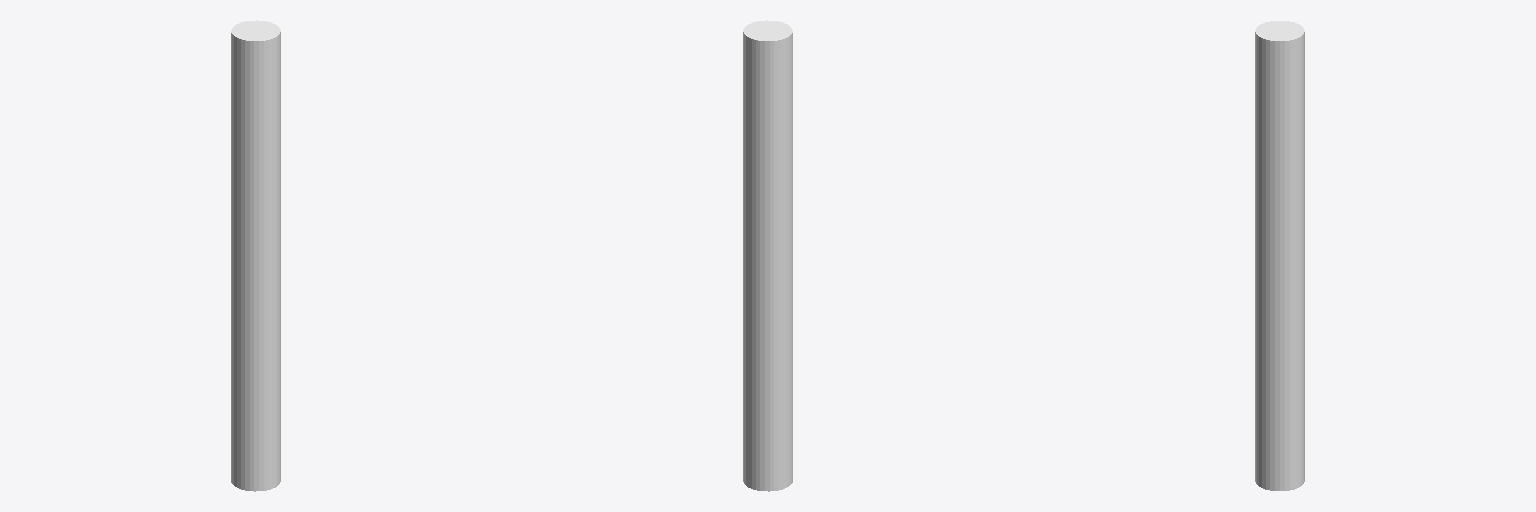
URDF robot description (lbr_iiwa):
<?xml version="1.0" ?>
<!-- ======================================================================= -->
<!-- | This document was autogenerated by xacro from lbr_iiwa.urdf.xacro   | -->
<!-- | Original xacro: https://github.com/rtkg/lbr_iiwa/archive/master.zip | -->
<!-- | EDITING THIS FILE BY HAND IS NOT RECOMMENDED                        | -->
<!-- | Changes ([author]):                                                 | -->
<!-- |   * Removed gazebo tags.                                            | -->
<!-- |   * Removed unused materials.                                       | -->
<!-- |   * Made mesh paths relative.                                       | -->
<!-- |   * Removed material fields from collision segments.                | -->
<!-- |   * Removed the self_collision_checking segment.                    | -->
<!-- |   * Removed transmission segments, since they didn't match the      | -->
<!-- |     convention, will have to added back later.                      | -->
<!-- ======================================================================= -->
<!--LICENSE:                                                                 -->
<!--Copyright (c) 2015, [author] & [author], AASS Research Center,  -->
<!--Orebro University, Sweden                                                -->
<!--All rights reserved.                                                     -->
<!--                                                                         -->
<!--Redistribution and use in source and binary forms, with or without       -->
<!--modification, are permitted provided that the following conditions are   -->
<!--met:                                                                     -->
<!--                                                                         -->
<!--1. Redistributions of source code must retain the above copyright notice,-->
<!--   this list of conditions and the following disclaimer.                 -->
<!--                                                                         -->
<!--2. Redistributions in binary form must reproduce the above copyright     -->
<!--   notice, this list of conditions and the following disclaimer in the   -->
<!--   documentation and/or other materials provided with the distribution.  -->
<!--                                                                         -->
<!--THIS SOFTWARE IS PROVIDED BY THE COPYRIGHT [author] "AS  -->
<!--IS" AND ANY EXPRESS OR IMPLIED WARRANTIES, INCLUDING, BUT NOT LIMITED TO,-->
<!--THE IMPLIED WARRANTIES OF MERCHANTABILITY AND FITNESS FOR A PARTICULAR   -->
<!--PURPOSE ARE DISCLAIMED. IN NO EVENT SHALL THE COPYRIGHT [author]        -->
<!--CONTRIBUTORS BE LIABLE FOR ANY DIRECT, INDIRECT, INCIDENTAL, SPECIAL,    -->
<!--EXEMPLARY, OR CONSEQUENTIAL DAMAGES (INCLUDING, BUT NOT LIMITED TO,      -->
<!--PROCUREMENT OF SUBSTITUTE GOODS OR SERVICES; LOSS OF USE, DATA, OR       -->
<!--PROFITS; OR BUSINESS INTERRUPTION) HOWEVER CAUSED AND ON ANY THEORY OF   -->
<!--LIABILITY, WHETHER IN CONTRACT, STRICT LIABILITY, OR TORT (INCLUDING     -->
<!--NEGLIGENCE OR OTHERWISE) ARISING IN ANY WAY OUT OF THE USE OF THIS       -->
<!--SOFTWARE, EVEN IF ADVISED OF THE POSSIBILITY OF SUCH DAMAGE.             -->
<robot name="lbr_iiwa" xmlns:xacro="http://www.ros.org/wiki/xacro">
  <!-- Import Rviz colors -->
  <material name="Grey">
    <color rgba="0.2 0.2 0.2 1.0"/>
  </material>
  <material name="Orange">
    <color rgba="1.0 0.423529411765 0.0392156862745 1.0"/>
  </material>
  <material name="Blue">
  <color rgba="0.5 0.7 1.0 1.0"/>      
</material>

  <!--Import the lbr iiwa macro -->
  <!--Import Transmissions -->
  <!--Include Utilities -->
  <!--The following macros are adapted from the LWR 4 definitions of the RCPRG - https://github.com/RCPRG-ros-pkg/lwr_robot -->
  <!--Little helper macros to define the inertia matrix needed for links.-->
  <!--Cuboid-->
  <!--Cylinder: length is along the y-axis! -->
  <!--lbr-->
  <link name="lbr_iiwa_link_0">
    <inertial>
      <origin rpy="0 0 0" xyz="-0.1 0 0.07"/>
      <!--Increase mass from 5 Kg original to provide a stable base to carry the
          arm.-->
      <mass value="0.0"/>
      <!-- <mass value="5.0"/> -->
      <inertia ixx="0.05" ixy="0" ixz="0" iyy="0.06" iyz="0" izz="0.03"/>
    </inertial>
    <visual>
      <origin rpy="0 0 0" xyz="0 0 0"/>
      <geometry>
        <mesh filename="meshes/link_0.obj"/>
      </geometry>
      <material name="Grey"/>
    </visual>
    <collision>
      <origin rpy="0 0 0" xyz="0 0 0"/>
      <geometry>
        <mesh filename="meshes/link_0.stl"/>
      </geometry>
    </collision>
  </link>
  <!-- joint between link_0 and link_1 -->
  <joint name="lbr_iiwa_joint_1" type="revolute">
    <parent link="lbr_iiwa_link_0"/>
    <child link="lbr_iiwa_link_1"/>
    <origin rpy="0 0 0" xyz="0 0 0.1575"/>
    <axis xyz="0 0 1"/>
    <limit effort="1000" lower="-2.96705972839" upper="2.96705972839" velocity="10"/>
    <dynamics damping="0.5"/>
  </joint>
  <link name="lbr_iiwa_link_1">
    <inertial>
      <origin rpy="0 0 0" xyz="0 -0.03 0.12"/>
      <mass value="4"/>
      <inertia ixx="0.1" ixy="0" ixz="0" iyy="0.09" iyz="0" izz="0.02"/>
    </inertial>
    <visual>
      <origin rpy="0 0 0" xyz="0 0 0"/>
      <geometry>
        <mesh filename="meshes/link_1.obj"/>
      </geometry>
      <material name="Blue"/>
    </visual>
    <collision>
      <origin rpy="0 0 0" xyz="0 0 0"/>
      <geometry>
        <mesh filename="meshes/link_1.stl"/>
      </geometry>
    </collision>
  </link>
  <!-- joint between link_1 and link_2 -->
  <joint name="lbr_iiwa_joint_2" type="revolute">
    <parent link="lbr_iiwa_link_1"/>
    <child link="lbr_iiwa_link_2"/>
    <origin rpy="1.57079632679   0 3.14159265359" xyz="0 0 0.2025"/>
    <axis xyz="0 0 1"/>
    <limit effort="1000" lower="-2.09439510239" upper="2.09439510239" velocity="10"/>
    <dynamics damping="0.5"/>
  </joint>
  <link name="lbr_iiwa_link_2">
    <inertial>
      <origin rpy="0 0 0" xyz="0.0003 0.059 0.042"/>
      <mass value="4"/>
      <inertia ixx="0.05" ixy="0" ixz="0" iyy="0.018" iyz="0" izz="0.044"/>
    </inertial>
    <visual>
      <origin rpy="0 0 0" xyz="0 0 0"/>
      <geometry>
        <mesh filename="meshes/link_2.obj"/>
      </geometry>
      <material name="Blue"/>
    </visual>
    <collision>
      <origin rpy="0 0 0" xyz="0 0 0"/>
      <geometry>
        <mesh filename="meshes/link_2.stl"/>
      </geometry>
    </collision>
  </link>
  <!-- joint between link_2 and link_3 -->
  <joint name="lbr_iiwa_joint_3" type="revolute">
    <parent link="lbr_iiwa_link_2"/>
    <child link="lbr_iiwa_link_3"/>
    <origin rpy="1.57079632679 0 3.14159265359" xyz="0 0.2045 0"/>
    <axis xyz="0 0 1"/>
    <limit effort="1000" lower="-2.96705972839" upper="2.96705972839" velocity="10"/>
    <dynamics damping="0.5"/>
  </joint>
  <link name="lbr_iiwa_link_3">
    <inertial>
      <origin rpy="0 0 0" xyz="0 0.03 0.13"/>
      <mass value="3"/>
      <inertia ixx="0.08" ixy="0" ixz="0" iyy="0.075" iyz="0" izz="0.01"/>
    </inertial>
    <visual>
      <origin rpy="0 0 0" xyz="0 0 0"/>
      <geometry>
        <mesh filename="meshes/link_3.obj"/>
      </geometry>
      <material name="Orange"/>
    </visual>
    <collision>
      <origin rpy="0 0 0" xyz="0 0 0"/>
      <geometry>
        <mesh filename="meshes/link_3.stl"/>
      </geometry>
    </collision>
  </link>
  <!-- joint between link_3 and link_4 -->
  <joint name="lbr_iiwa_joint_4" type="revolute">
    <parent link="lbr_iiwa_link_3"/>
    <child link="lbr_iiwa_link_4"/>
    <origin rpy="1.57079632679 0 0" xyz="0 0 0.2155"/>
    <axis xyz="0 0 1"/>
    <limit effort="1000" lower="-2.09439510239" upper="2.09439510239" velocity="10"/>
    <dynamics damping="0.5"/>
  </joint>
  <link name="lbr_iiwa_link_4">
    <inertial>
      <origin rpy="0 0 0" xyz="0 0.067 0.034"/>
      <mass value="2.7"/>
      <inertia ixx="0.03" ixy="0" ixz="0" iyy="0.01" iyz="0" izz="0.029"/>
    </inertial>
    <visual>
      <origin rpy="0 0 0" xyz="0 0 0"/>
      <geometry>
        <mesh filename="meshes/link_4.obj"/>
      </geometry>
      <material name="Blue"/>
    </visual>
    <collision>
      <origin rpy="0 0 0" xyz="0 0 0"/>
      <geometry>
        <mesh filename="meshes/link_4.stl"/>
      </geometry>
    </collision>
  </link>
  <!-- joint between link_4 and link_5 -->
  <joint name="lbr_iiwa_joint_5" type="revolute">
    <parent link="lbr_iiwa_link_4"/>
    <child link="lbr_iiwa_link_5"/>
    <origin rpy="-1.57079632679 3.14159265359 0" xyz="0 0.1845 0"/>
    <axis xyz="0 0 1"/>
    <limit effort="1000" lower="-2.96705972839" upper="2.96705972839" velocity="10"/>
    <dynamics damping="0.5"/>
  </joint>
  <link name="lbr_iiwa_link_5">
    <inertial>
      <origin rpy="0 0 0" xyz="0.0001 0.021 0.076"/>
      <mass value="1.7"/>
      <inertia ixx="0.02" ixy="0" ixz="0" iyy="0.018" iyz="0" izz="0.005"/>
    </inertial>
    <visual>
      <origin rpy="0 0 0" xyz="0 0 0"/>
      <geometry>
        <mesh filename="meshes/link_5.obj"/>
      </geometry>
      <material name="Blue"/>
    </visual>
    <collision>
      <origin rpy="0 0 0" xyz="0 0 0"/>
      <geometry>
        <mesh filename="meshes/link_5.stl"/>
      </geometry>
    </collision>
  </link>
  <!-- joint between link_5 and link_6 -->
  <joint name="lbr_iiwa_joint_6" type="revolute">
    <parent link="lbr_iiwa_link_5"/>
    <child link="lbr_iiwa_link_6"/>
    <origin rpy="1.57079632679 0 0" xyz="0 0 0.2155"/>
    <axis xyz="0 0 1"/>
    <limit effort="1000" lower="-2.09439510239" upper="2.09439510239" velocity="10"/>
    <dynamics damping="0.5"/>
  </joint>
  <link name="lbr_iiwa_link_6">
    <inertial>
      <origin rpy="0 0 0" xyz="0 0.0006 0.0004"/>
      <mass value="1.8"/>
      <inertia ixx="0.005" ixy="0" ixz="0" iyy="0.0036" iyz="0" izz="0.0047"/>
    </inertial>
    <visual>
      <origin rpy="0 0 0" xyz="0 0 0"/>
      <geometry>
        <mesh filename="meshes/link_6.obj"/>
      </geometry>
      <material name="Orange"/>
    </visual>
    <collision>
      <origin rpy="0 0 0" xyz="0 0 0"/>
      <geometry>
        <mesh filename="meshes/link_6.stl"/>
      </geometry>
    </collision>
  </link>
  <!-- joint between link_6 and link_7 -->
  <joint name="lbr_iiwa_joint_7" type="revolute">
    <parent link="lbr_iiwa_link_6"/>
    <child link="lbr_iiwa_link_7"/>
    <origin rpy="-1.57079632679 3.14159265359 0" xyz="0 0.081 0"/>
    <axis xyz="0 0 1"/>
    <limit effort="1000" lower="-3.05432619099" upper="3.05432619099" velocity="10"/>
    <dynamics damping="0.5" friction="1.0"/>
  </joint>
  <link name="lbr_iiwa_link_7">
    <inertial>
      <origin rpy="0 0 0" xyz="0 0 0.02"/>
      <!-- <mass value="0.3"/> -->
      <mass value="1.0"/>
      <inertia ixx="0.001" ixy="0" ixz="0" iyy="0.001" iyz="0" izz="0.001"/>
    </inertial>
    <visual>
      <origin rpy="0 0 0" xyz="0 0 0"/>
      <geometry>
        <mesh filename="meshes/link_7.obj"/>
      </geometry>
      <material name="Grey"/>
    </visual>
    <collision>
      <origin rpy="0 0 0" xyz="0 0 0"/>
      <geometry>
        <mesh filename="meshes/link_7.stl"/>
      </geometry>
    </collision>
  </link>

<joint name="joint_to_bar" type="fixed">
    <parent link="lbr_iiwa_link_7"/>
    <child link="bat"/>
    <origin rpy="0 0 0" xyz="0 0 0.2"/>
  </joint>
<link name="bat">
    <visual>
      <geometry>
        <!-- <box size="0.05 0.2 .4"/> -->
	<cylinder radius=".02" length=".4"/>	
      </geometry>
      <origin rpy="0 0 0" xyz="0 0 0.0"/>
      <material name="white">
        <color rgba="1 1 1 1"/>
      </material>
    </visual>
    <inertial>
    <origin xyz="0 0 0.5"/>
      <mass value="0"/>
      <!-- <inertia ixx="1.0" ixy="0.0" ixz="0.0" iyy="1.0" iyz="0.0" izz="1.0"/> -->
      <inertia ixx="0.0" ixy="0.0" ixz="0.0" iyy="0.0" iyz="0.0" izz="0.0"/>
    </inertial>
     <collision>
      <geometry>
        <!-- <box size="0.05 0.2 .4"/> -->
	<cylinder radius=".02" length=".4"/>	
      </geometry>
      <origin rpy="0 0 0" xyz="0 0 0.0"/>
    </collision>
  </link>
  
</robot>

--- Facts derived from the render (not from the file) ---
3 views of the same robot in one strip: view 1: azimuth 30°, elevation 25°; view 2: azimuth 150°, elevation 25°; view 3: azimuth 270°, elevation 25° (orthographic).
Robot: lbr_iiwa — 9 links, 8 joints (7 revolute, 1 fixed); root link lbr_iiwa_link_0; default pose: all joints at 0.
Links seen in each view (by area): view 1: bat; view 2: bat; view 3: bat.
Boxes of the visible links, <box> form: bat: <box>231,20,280,491</box>; bat: <box>743,20,792,491</box>; bat: <box>1255,21,1304,490</box>.
Size in the robot's own frame: 0.04 by 0.04 by 0.4 metres.
Meshes: 8 distinct files referenced, 0 mesh visuals loaded (none loaded); not drawn: 8 (reference not matched to a file when rendering).